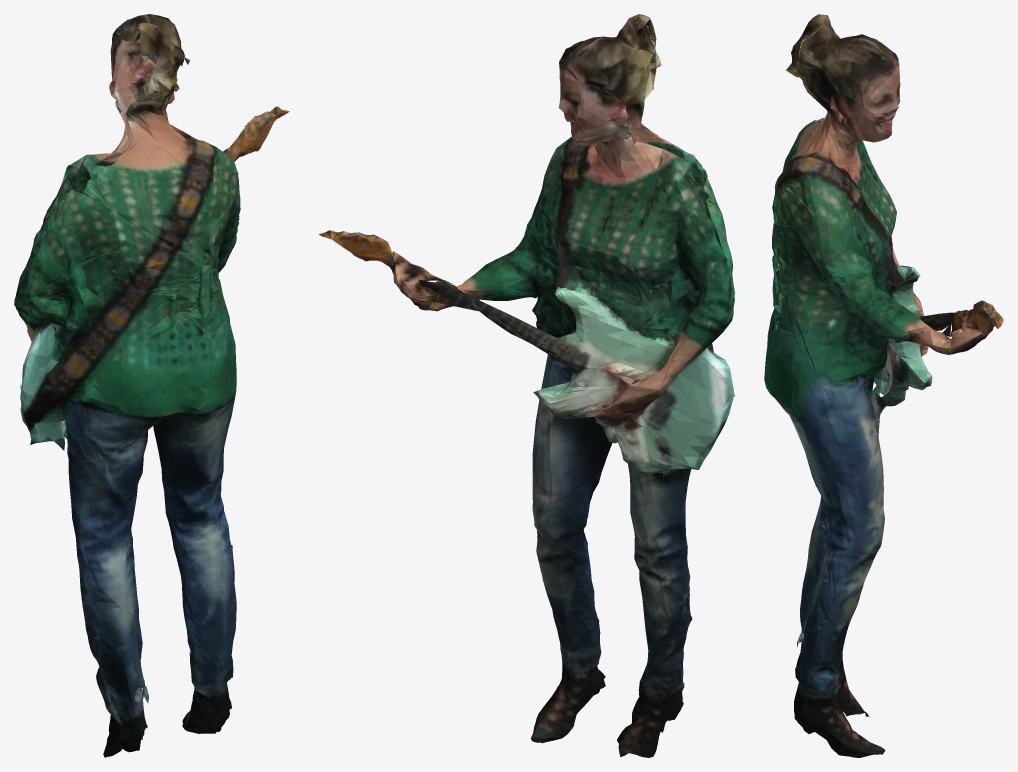
The picture shows the model from 3 angles, left to right: view 1: azimuth 30°, elevation 25°; view 2: azimuth 150°, elevation 25°; view 3: azimuth 270°, elevation 25°; orthographic projection. The views are drawn at different scales.
Visible parts, largest first — view 1: dec_0002; view 2: dec_0002; view 3: dec_0002.
Boxes of the visible parts, <box> form: dec_0002: <box>14,14,289,757</box>; dec_0002: <box>319,14,735,757</box>; dec_0002: <box>764,14,1003,757</box>.
Size of the model in its own units: 0.8486 by 1.74 by 0.5315.
Materials: 1 (1 with a texture image).
